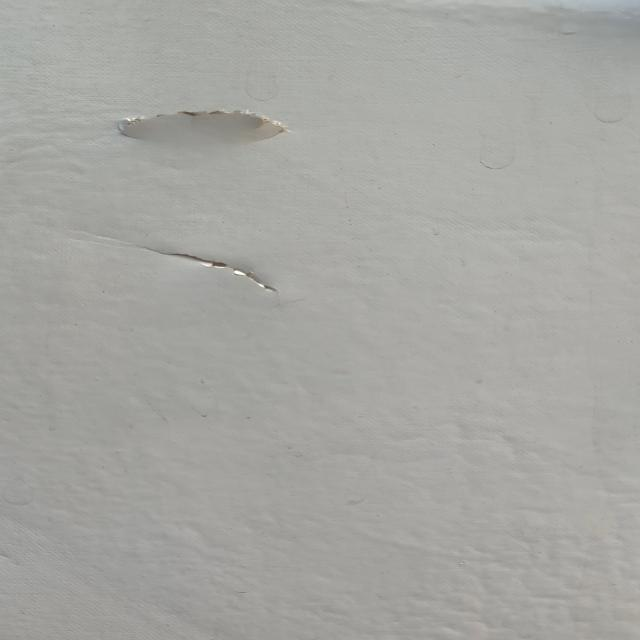Scratches: (90, 106, 328, 154), (140, 246, 293, 298)
